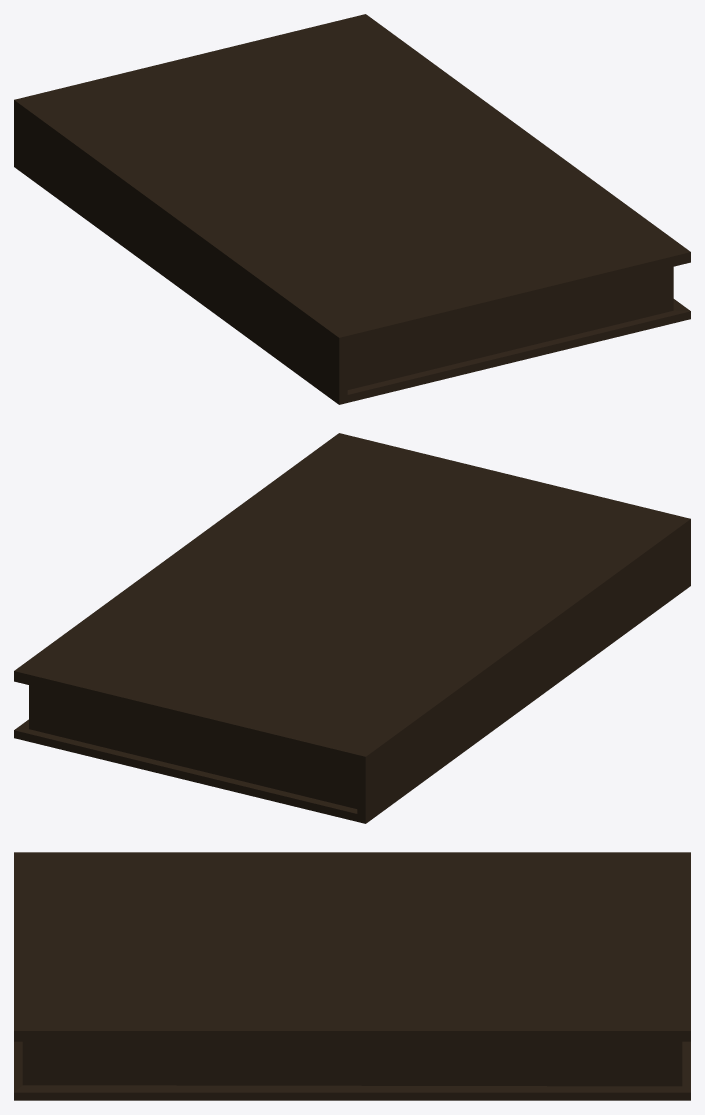
File: Livro.fbx
3 views of the same model, one above another, from view 1: azimuth 30°, elevation 25°; view 2: azimuth 150°, elevation 25°; view 3: azimuth 270°, elevation 25° (orthographic). The views are drawn at different scales.
Parts seen in each view (by area): view 1: Cube; view 2: Cube; view 3: Cube.
Boxes of the visible parts, x1=… form: Cube: x1=14, y1=14, x2=690, y2=404; Cube: x1=14, y1=433, x2=690, y2=823; Cube: x1=14, y1=852, x2=690, y2=1100.
Size of the model in its own units: 2 by 0.3646 by 3.2.
